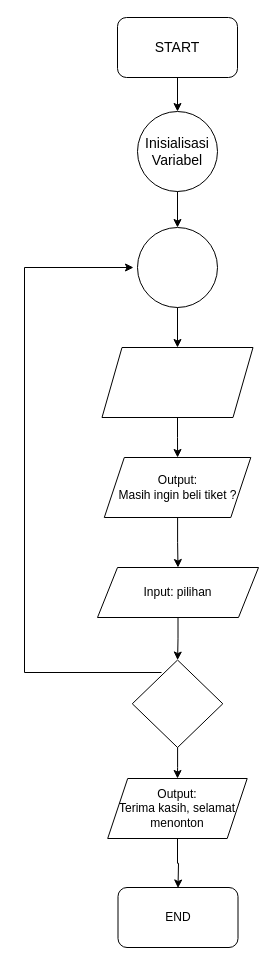
Image size: 276x965. Some labels were removed from this diagram. The centre of each missing label's shape, as x and y in pixels:
"Output: Tampilkan rincian harga total yang harus dibayar" belongs at [177,382].
"Proses Input" belongs at [177,267].
"while pilihan=='y'" belongs at [177,703].
